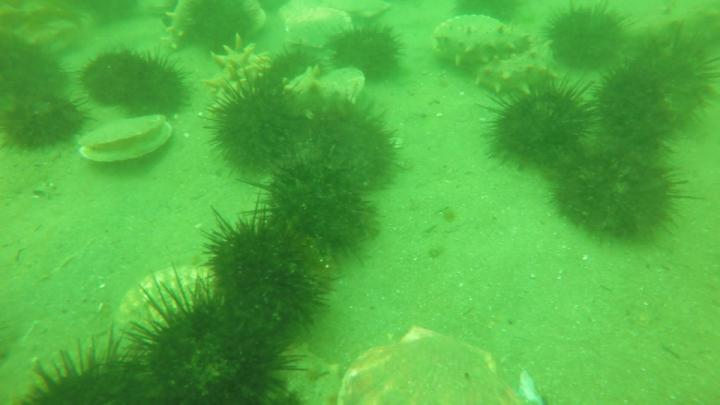echinus: (135, 279, 304, 404), (253, 142, 387, 266), (194, 203, 330, 323), (555, 135, 698, 249), (7, 331, 188, 405), (283, 97, 399, 190), (207, 73, 306, 179), (483, 80, 596, 171), (636, 25, 720, 117), (586, 70, 680, 150), (544, 1, 629, 81), (1, 86, 91, 152), (114, 54, 197, 125), (183, 1, 261, 58), (75, 47, 141, 113), (332, 21, 408, 75), (257, 44, 319, 90)
holothurian: (433, 20, 532, 70), (209, 32, 273, 109), (472, 46, 542, 97), (162, 1, 197, 49)
scallop: (339, 321, 541, 405), (120, 260, 224, 339), (77, 114, 174, 169), (283, 4, 357, 48), (309, 65, 371, 115), (327, 1, 397, 21)
